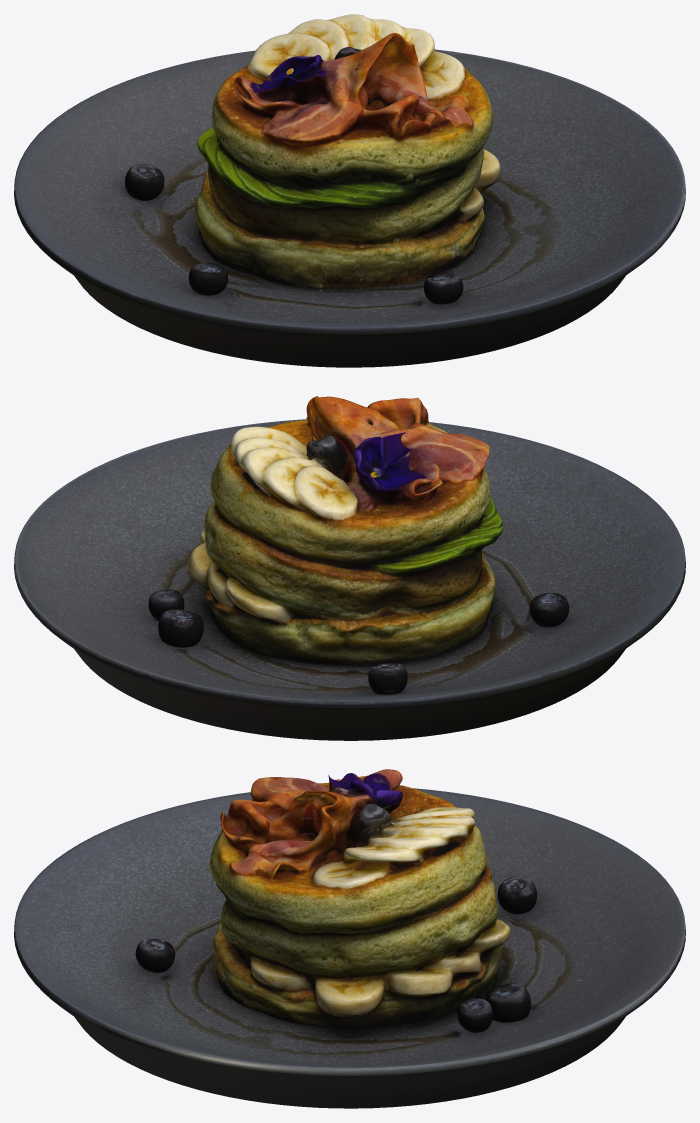
The model's file is Sinner Stack.FBX.
The picture shows the model from 3 angles, top to bottom: view 1: azimuth 30°, elevation 25°; view 2: azimuth 150°, elevation 25°; view 3: azimuth 270°, elevation 25°; orthographic projection.
Visible parts, largest first — view 1: Dish 1 - The Sinner Stack; view 2: Dish 1 - The Sinner Stack; view 3: Dish 1 - The Sinner Stack.
Part boxes in pixels (bbox=[...]): Dish 1 - The Sinner Stack: bbox=[14, 14, 685, 367]; Dish 1 - The Sinner Stack: bbox=[14, 396, 685, 740]; Dish 1 - The Sinner Stack: bbox=[14, 769, 685, 1108].
Bounding box in the file's own units: 17.66 × 6.12 × 17.66.
1 material, 1 textured.
